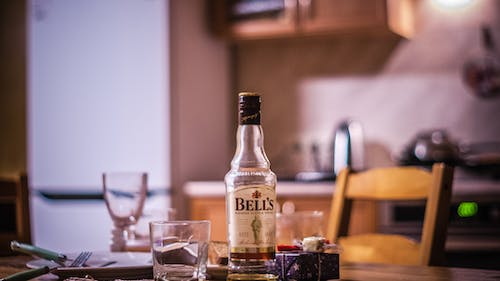alcohol: (222, 91, 279, 281), (148, 219, 212, 281)
